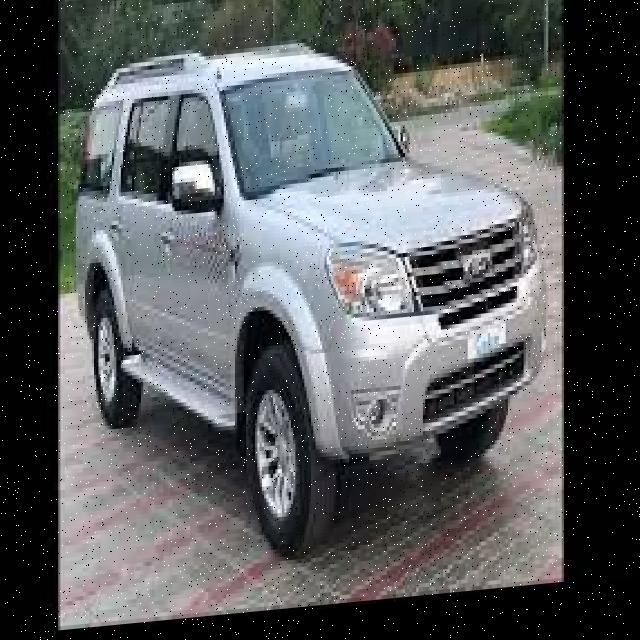car: (65, 11, 546, 567)
